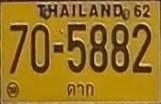0: (30, 24, 49, 72)
2: (131, 24, 151, 72)
5: (67, 23, 86, 72)
7: (9, 24, 27, 73)
8: (89, 23, 107, 72), (110, 24, 128, 72)
TAK: (62, 80, 99, 99)
